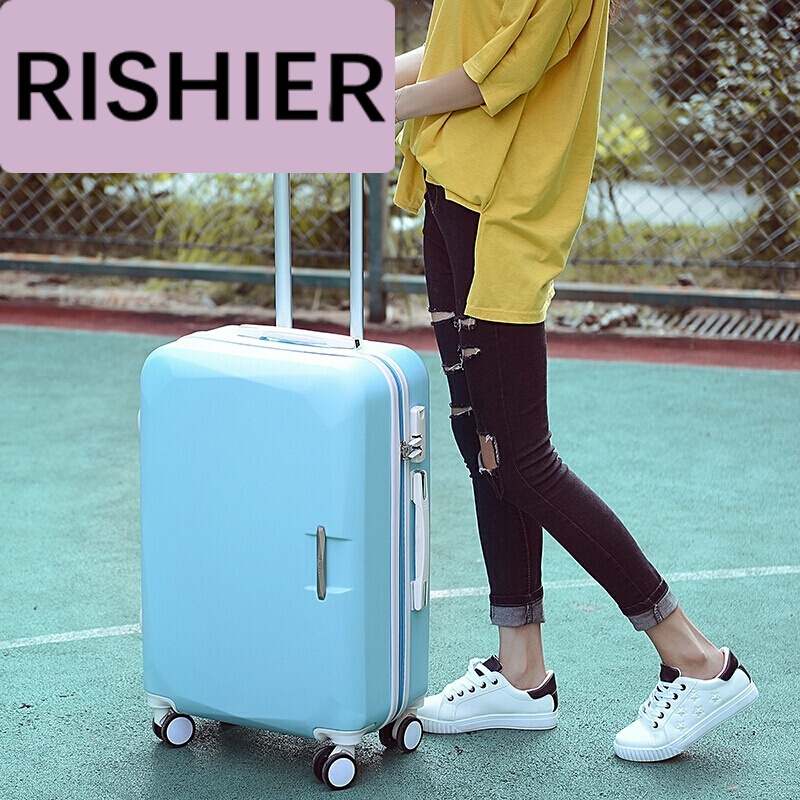box: (140, 321, 431, 742)
handle: (235, 324, 359, 350), (408, 470, 428, 613)
lock: (401, 405, 425, 463)
wheel: (311, 744, 359, 790), (379, 713, 423, 755), (152, 711, 196, 748)
